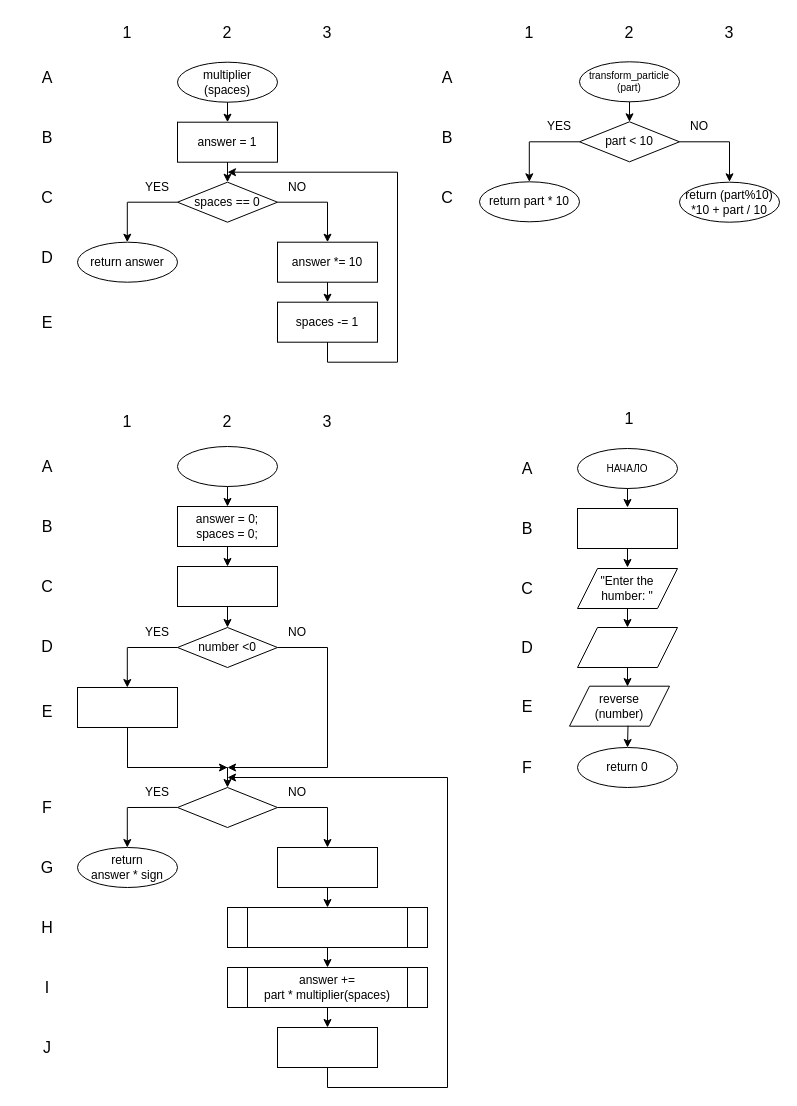
The diagram is 797 pixels wide and 1106 high, and some of its shapes have lost their labels. Each missing label, with the box of its shape:
number = 0;: (576, 508, 678, 548)
number == 0: (176, 786, 278, 828)
part = 0; sign = 1;: (176, 566, 278, 606)
part = number % 100: (276, 846, 378, 888)
part = transform_particle(part): (226, 906, 428, 948)
reverse(number): (176, 446, 278, 486)
sign = -1; number *= -1;: (76, 686, 178, 728)
spaces += 2; number /= 100;: (276, 1026, 378, 1068)
ВВОД number: (576, 626, 678, 668)
